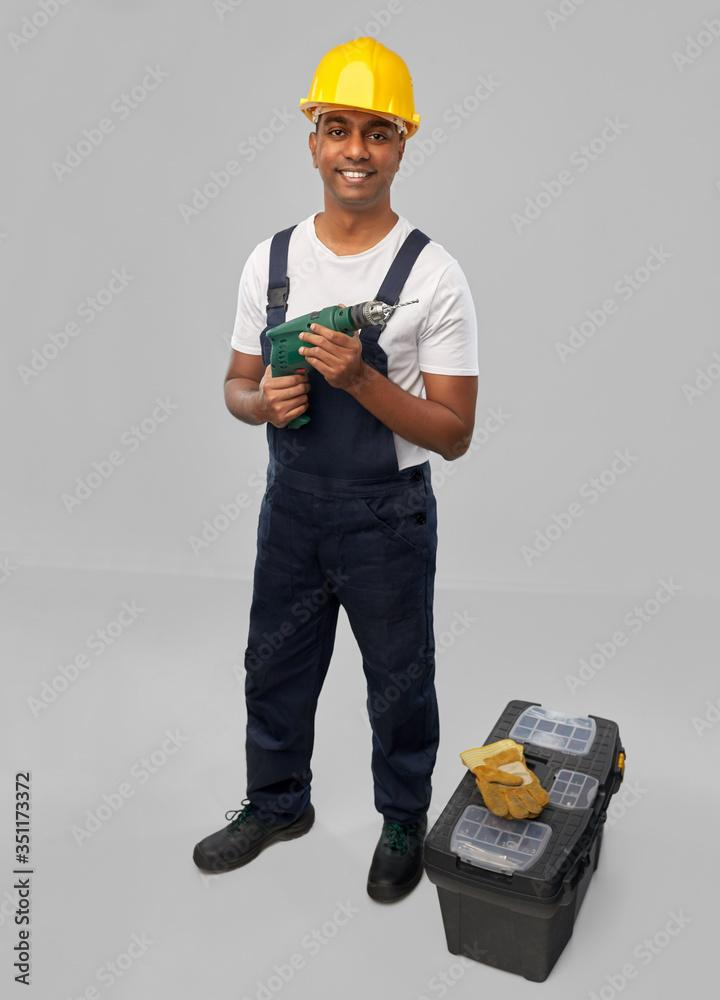Human: (214, 24, 489, 943)
